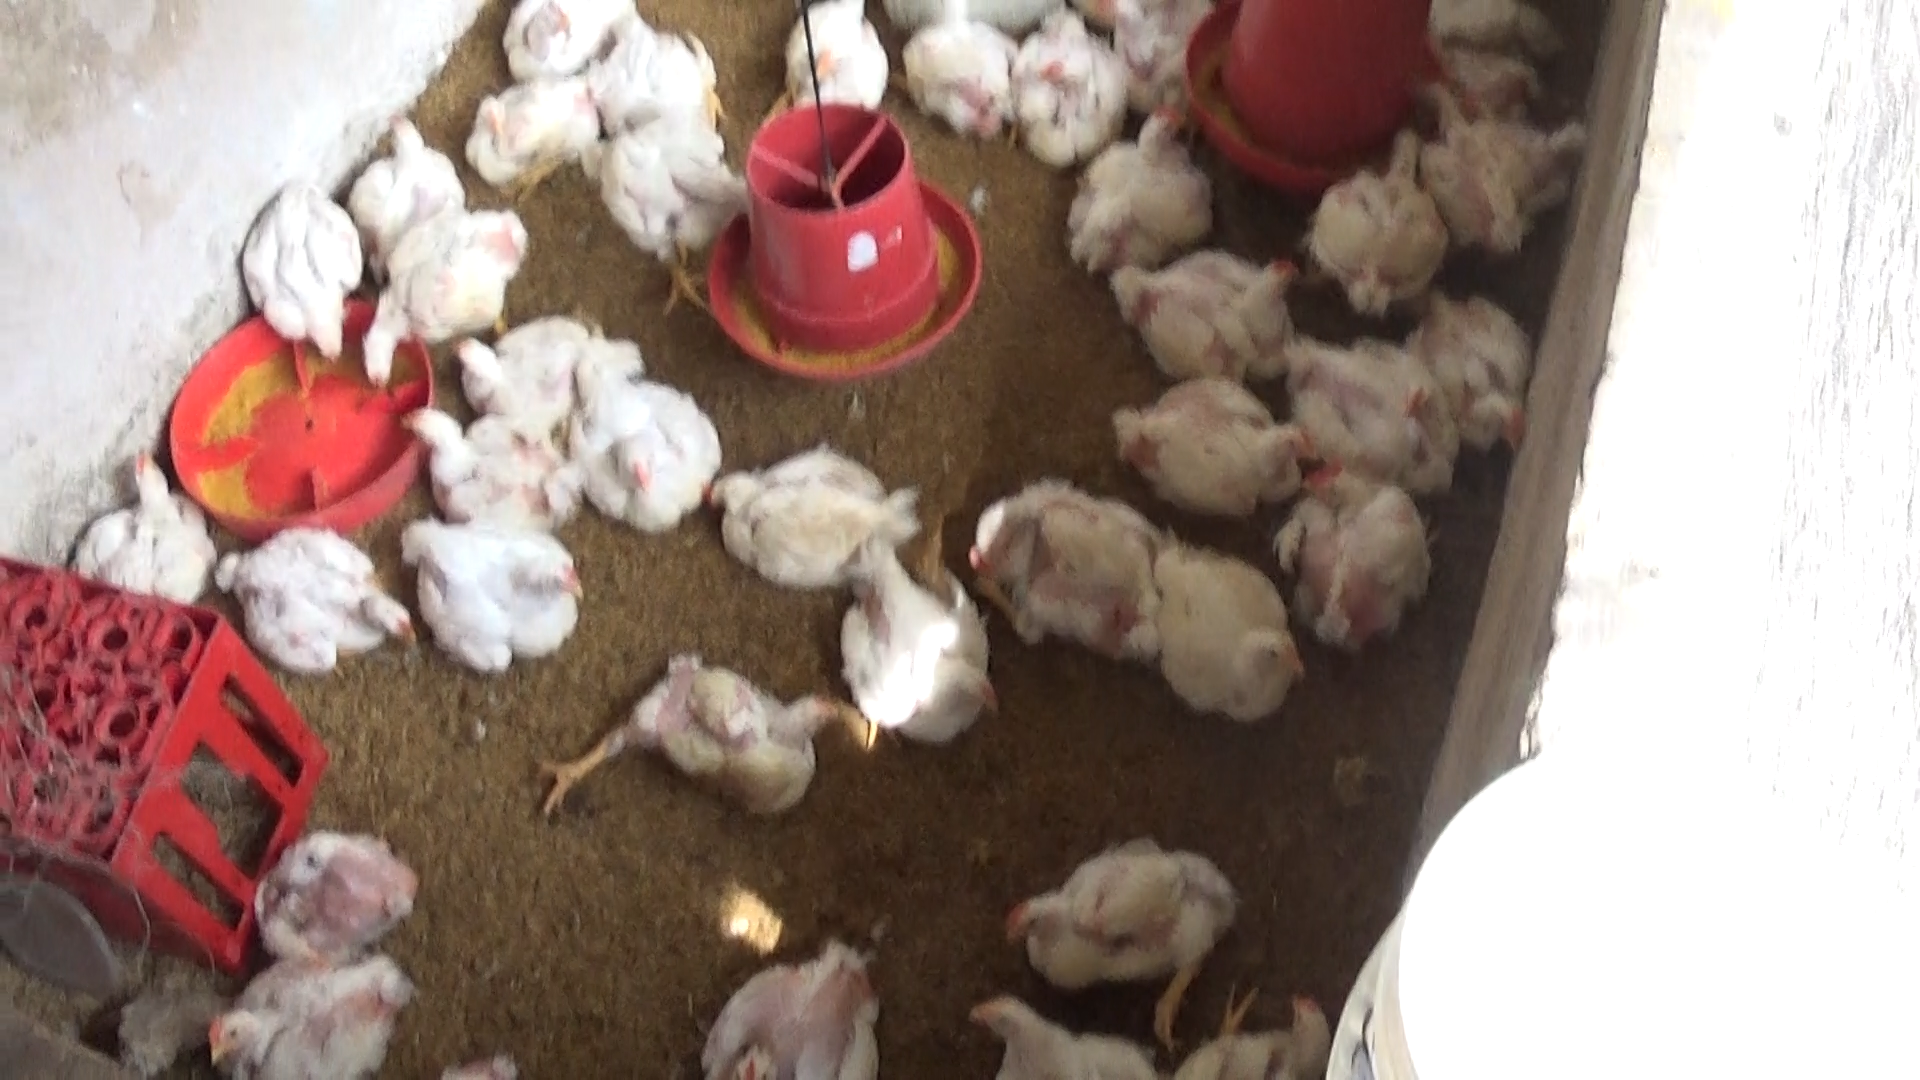Pollos: (520, 653, 893, 829), (997, 833, 1232, 1038), (957, 456, 1168, 671), (804, 529, 1001, 746), (574, 112, 770, 320), (345, 203, 546, 386), (1149, 524, 1313, 737), (686, 448, 926, 593), (1259, 323, 1452, 498), (1271, 458, 1433, 662), (1105, 372, 1316, 522), (1309, 123, 1452, 336), (394, 513, 582, 671), (555, 367, 731, 533), (218, 522, 417, 667), (236, 818, 431, 963), (1105, 241, 1296, 386), (237, 169, 372, 372), (202, 953, 417, 1080), (698, 938, 880, 1080), (1395, 277, 1536, 458), (1162, 961, 1366, 1080), (1069, 98, 1200, 277), (1416, 92, 1567, 248), (392, 396, 556, 533), (71, 444, 218, 599), (942, 988, 1176, 1080), (1015, 3, 1142, 173), (596, 11, 738, 153), (458, 65, 605, 200), (336, 108, 462, 241), (448, 305, 587, 425), (913, 0, 1019, 142), (785, 0, 897, 113), (508, 0, 625, 105)
